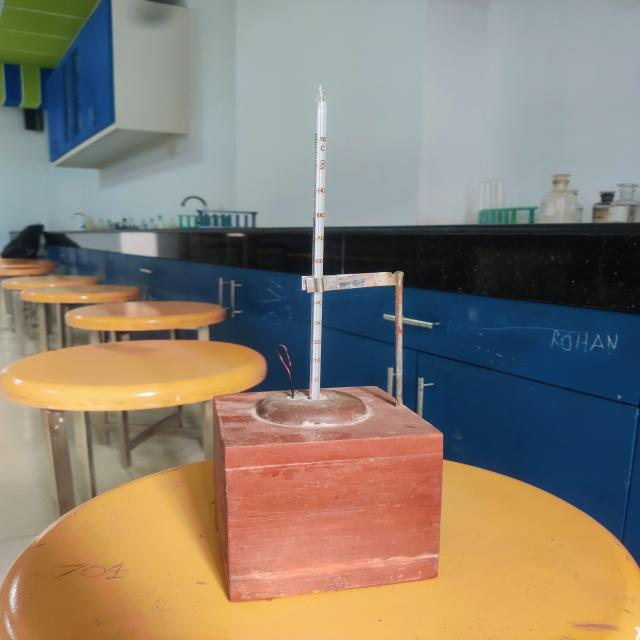Calorimeter: (179, 55, 516, 612)
